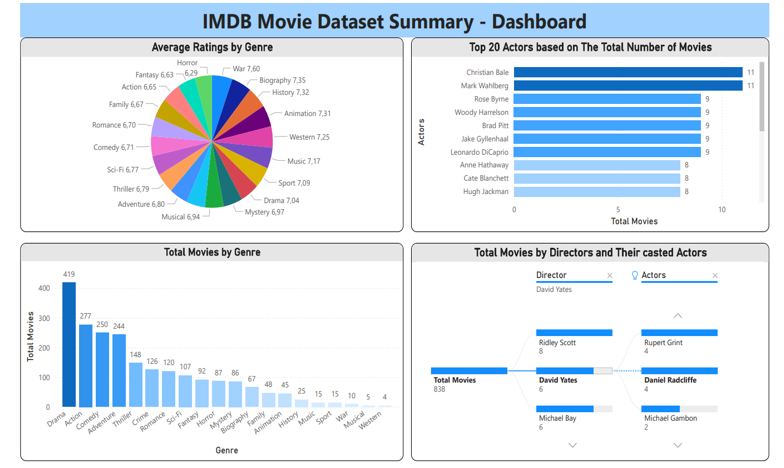

The dashboard page shown, as its layout file describes it:
{"tool":"powerbi","page":{"name":"Dashboard page - 2","canvas":[1280,720],"ordinal":1},"visuals":[{"type":"columnChart","fields":{"Category":["Genre.Genre"],"Y":["Measure.Total Movies"]},"box":[0,377.4,654.5,343.1],"z":0},{"type":"textbox","box":[0,0,1280.3,53.5],"z":2000},{"type":"pieChart","title":"Average  Ratings by Genre","fields":{"Category":["Genre.Genre"],"Y":["Measure.Avg Rating"]},"box":[0,53.5,654.5,306],"z":3000},{"type":"clusteredBarChart","title":"Top 20 Actors based on The Total Number of Movies","fields":{"Category":["Actors.Actors"],"Y":["Measure.Total Movies"]},"box":[668.3,53.5,612,306],"z":4000},{"type":"decompositionTreeVisual","title":"Total Movies by  Directors and Their casted Actors","fields":{"Analyze":["Measure.Total Movies"],"ExplainBy":["imdb_movie_dataset.Director","Actors.Actors"]},"box":[668.3,377.4,612,343.1],"z":5000}]}

Visuals, with their boxes in screenshot pixels (x1, y1, x2, y2):
columnChart - Genre.Genre x Measure.Total Movies: (20,255,402,454)
textbox: (20,35,766,66)
"Average  Ratings by Genre" pieChart: (20,66,402,244)
"Top 20 Actors based on The Total Number of Movies" clusteredBarChart: (410,66,766,244)
"Total Movies by  Directors and Their casted Actors" decompositionTreeVisual: (410,255,766,454)
